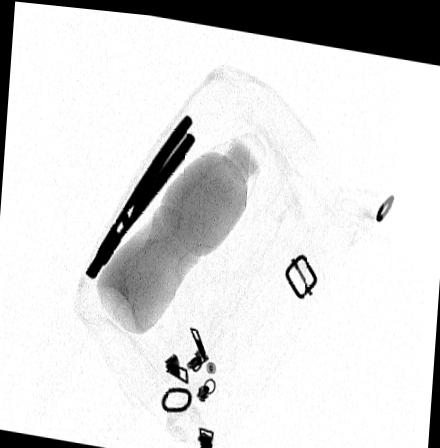Pliers: (84, 107, 198, 277)
